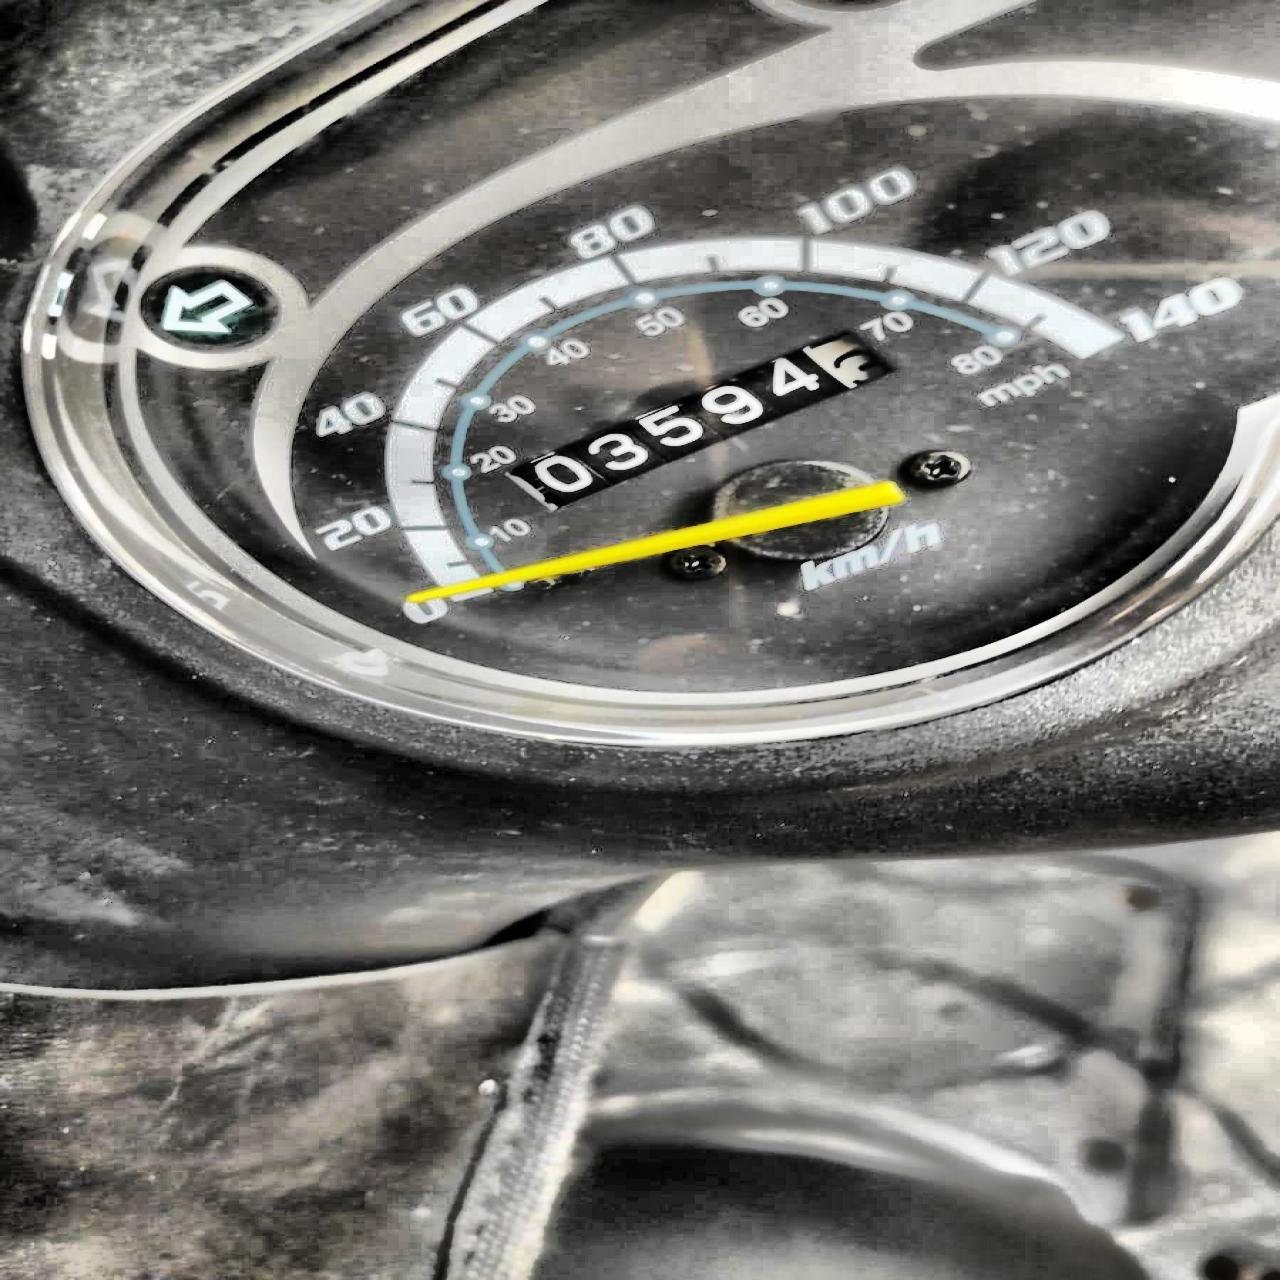0: (531, 454, 594, 493), (504, 395, 536, 415), (558, 339, 591, 358)
3: (584, 431, 648, 470), (830, 349, 891, 386)
4: (769, 356, 822, 395), (544, 346, 568, 366)
5: (635, 406, 703, 447)
9: (699, 384, 763, 424)
odometer: (502, 328, 896, 512)
